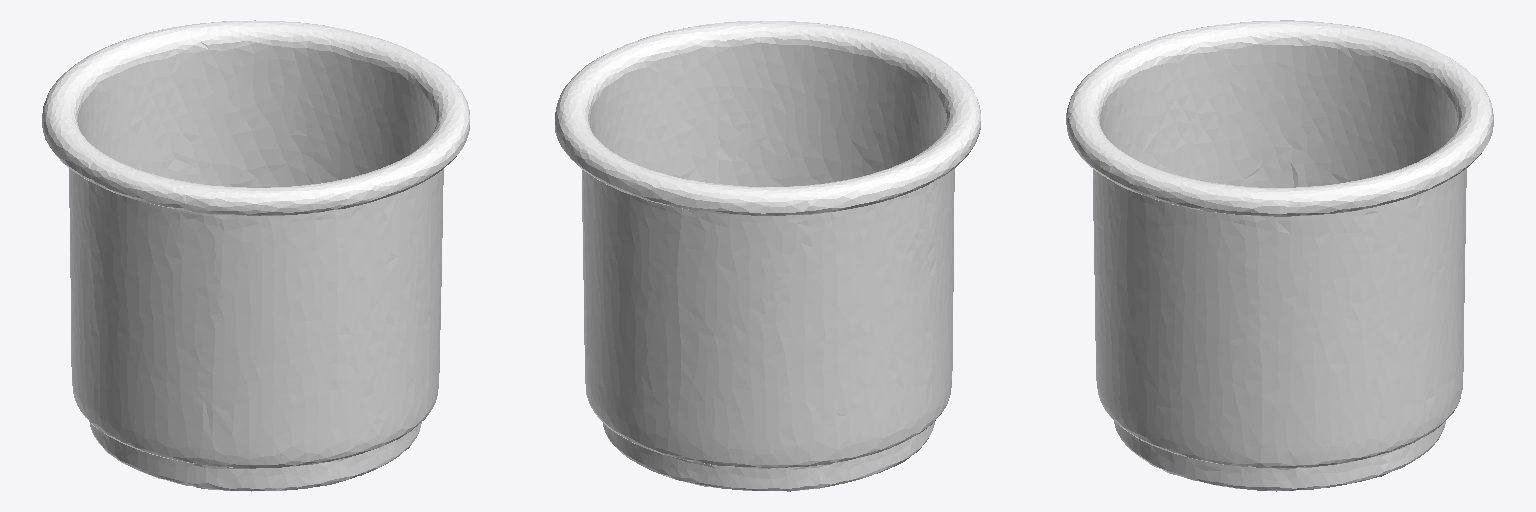
robot.urdf — 014_lemon:
<robot name="014_lemon">
	<link name="_name">
		<visual>
			<origin xyz="0.10770493044399379 -0.2101421821337594 -0.26208533597256234" rpy="0 0 0" />
			<geometry>
				<mesh filename="014_lemon/google_16k/textured.obj" scale="10 10 10" />
			</geometry>
			<material name="texture">
				<color rgba="1.0 1.0 1.0 1.0" />
			</material>
		</visual>
		<collision>
			<geometry>
				<mesh filename="014_lemon/google_16k/textured_vhacd.obj" scale="10 10 10" />
			</geometry>
		<origin xyz="0.10770493044399379 -0.2101421821337594 -0.26208533597256234" rpy="0 0 0" /></collision>
		<inertial>
			<mass value="1.0" />
			<inertia ixx="1.0" ixy="0.0" ixz="0.0" iyy="1.0" iyz="0.0" izz="1.0" />
		</inertial>
	</link>
</robot>

--- What the picture shows (computed from the rendered views, not written in the file) ---
Views: 3 orthographic renders of the robot side by side, from view 1: azimuth 30°, elevation 25°; view 2: azimuth 150°, elevation 25°; view 3: azimuth 270°, elevation 25°.
Model 014_lemon with 1 links and 0 joints (none), rooted at _name, posed all joints at 0.
Links seen in each view (by area): view 1: _name; view 2: _name; view 3: _name.
Link boxes in pixels (x1,y1,x2,y2): _name: [42, 20, 469, 491]; _name: [555, 20, 980, 491]; _name: [1066, 20, 1493, 491].
Size in the robot's own frame: 0.915 by 0.9162 by 0.7506 metres.
Meshes: 1 distinct files referenced, 1 mesh visuals loaded (1 OBJ).